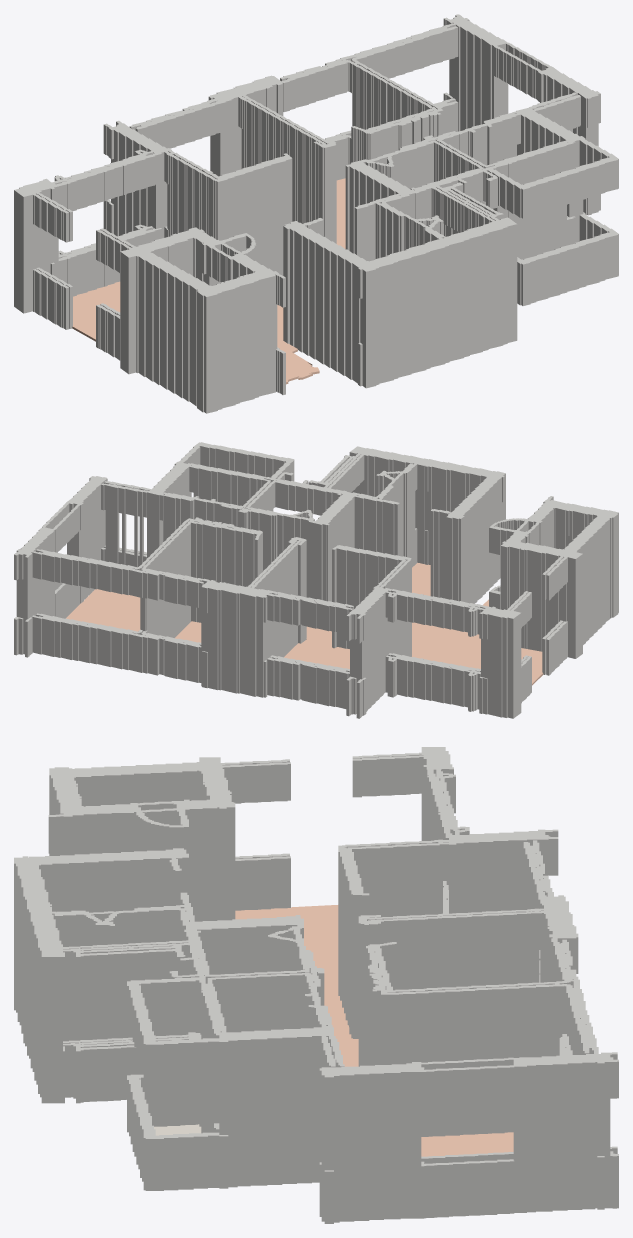
The picture shows the model from 3 angles, top to bottom: view 1: azimuth 30°, elevation 25°; view 2: azimuth 150°, elevation 25°; view 3: azimuth 270°, elevation 25°; orthographic projection. The views are drawn at different scales.
Parts seen in each view (by area): view 1: walls, room:kitchen:1; view 2: walls, room:kitchen:1; view 3: walls, room:kitchen:1.
Boxes of the visible parts, x1=… form: walls: x1=14, y1=14, x2=618, y2=413; room:kitchen:1: x1=72, y1=178, x2=345, y2=384; walls: x1=14, y1=442, x2=618, y2=718; room:kitchen:1: x1=66, y1=562, x2=543, y2=685; walls: x1=14, y1=747, x2=618, y2=1223; room:kitchen:1: x1=235, y1=905, x2=513, y2=1156.
Bounding box in the file's own units: 13.54 × 2.8 × 10.48.
